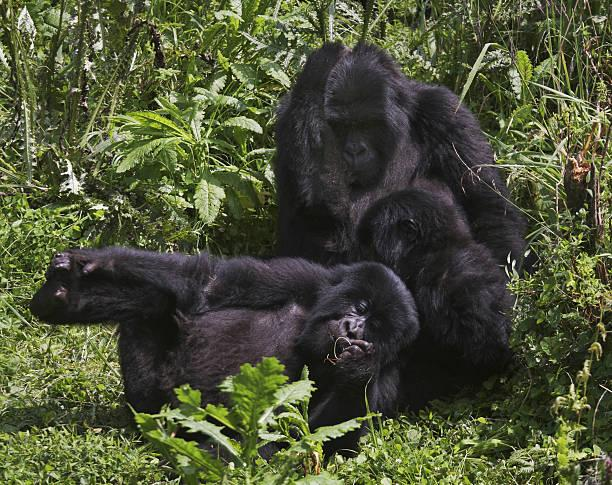goriile_montagne: (30, 238, 439, 473), (266, 46, 513, 272)
